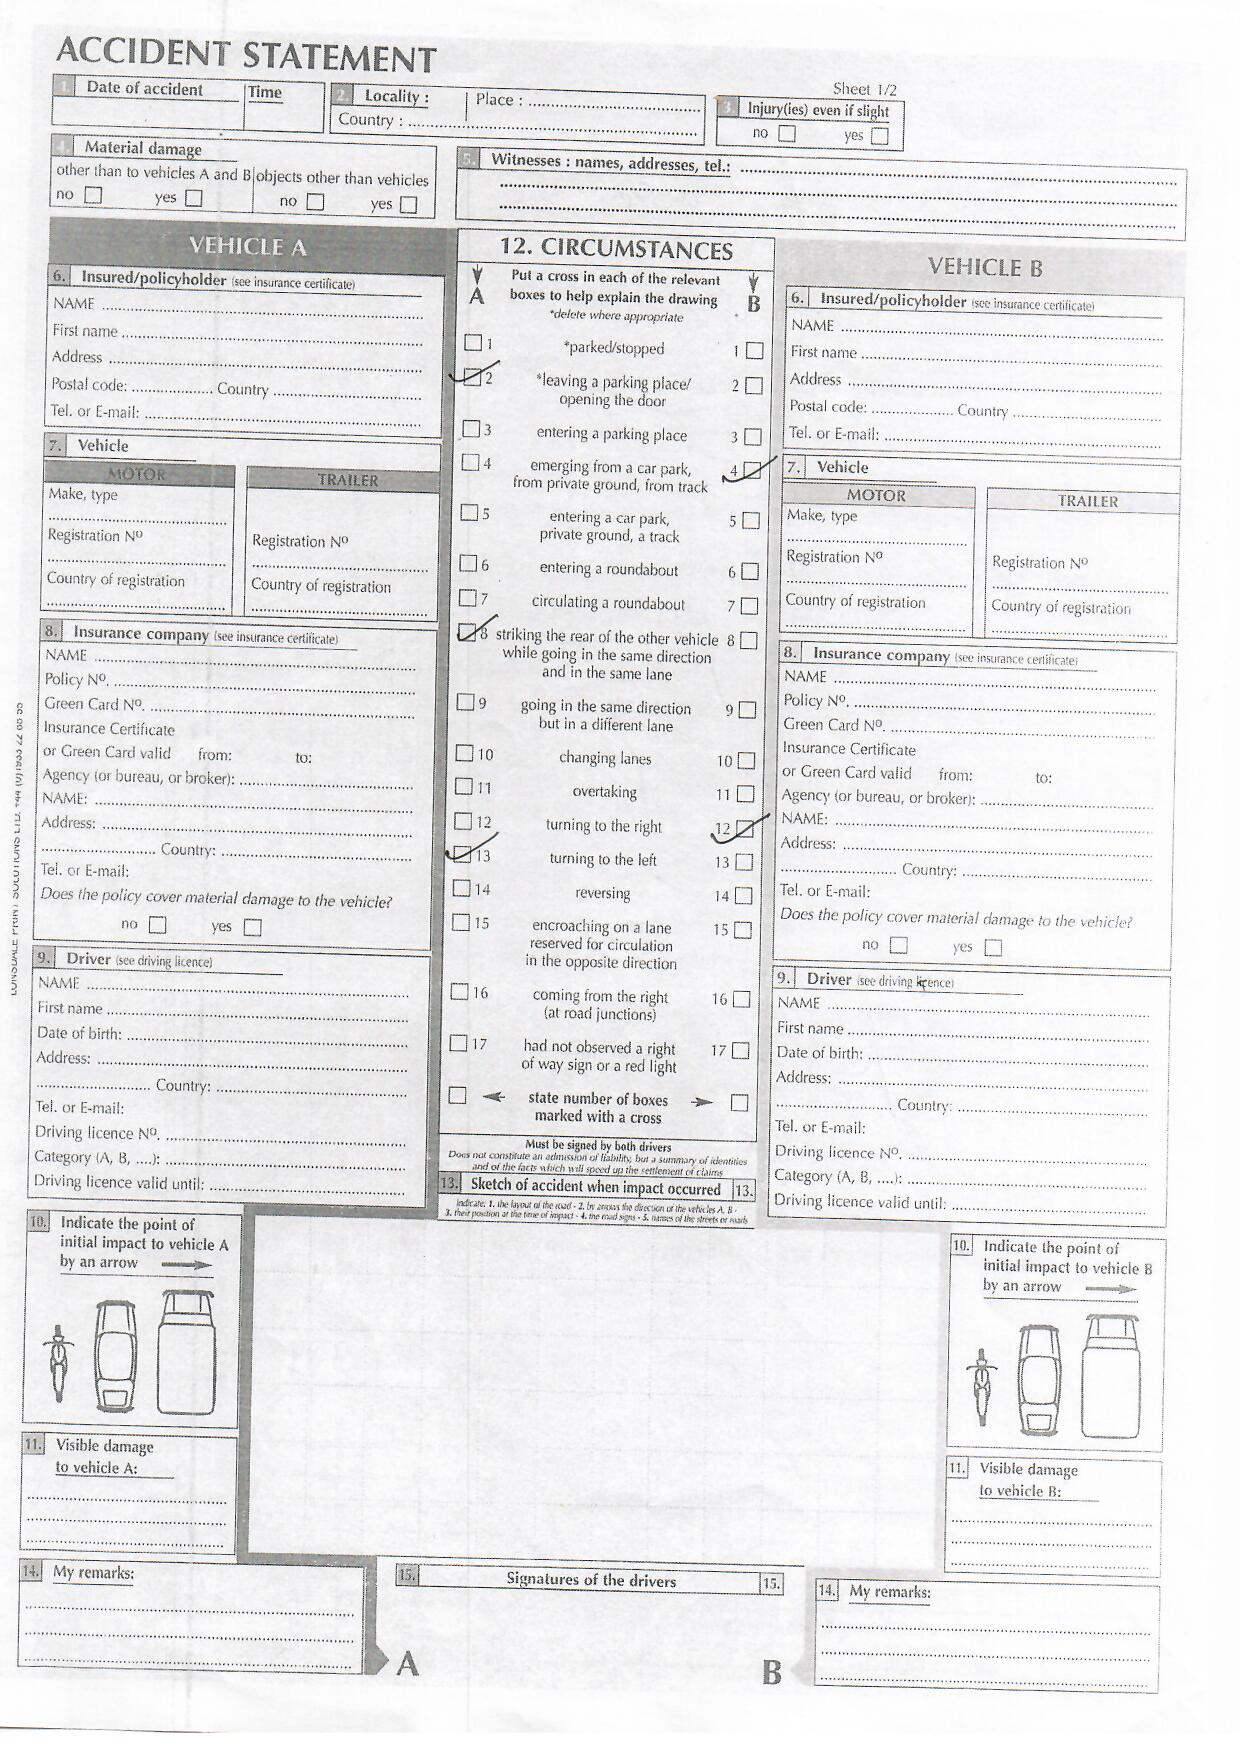check: (458, 365, 486, 392), (738, 459, 766, 485), (730, 817, 757, 842), (452, 620, 478, 644), (451, 843, 472, 864)
